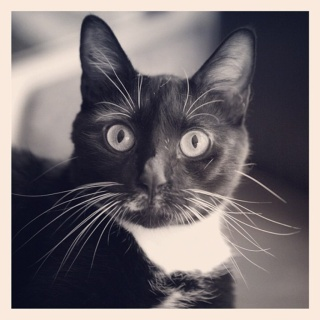Cat: (9, 14, 303, 310)
